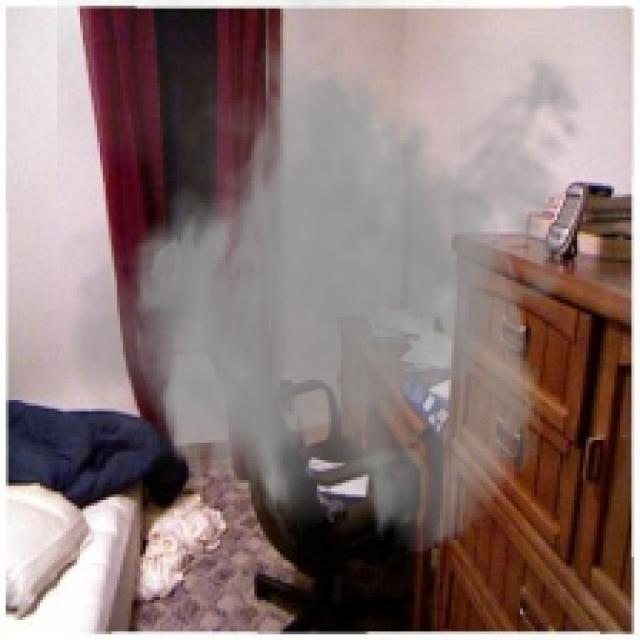smoke: (57, 0, 600, 557)
